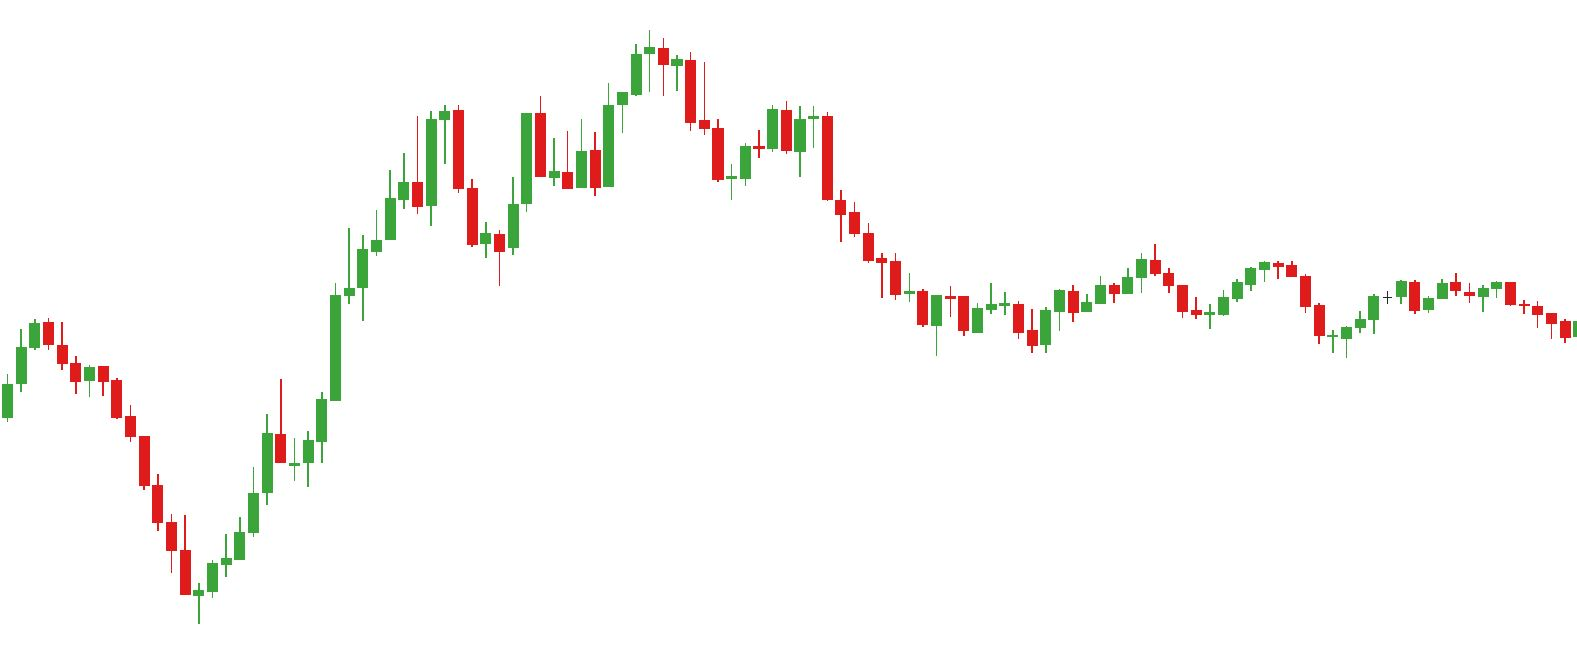buy: (1189, 287, 1355, 362)
